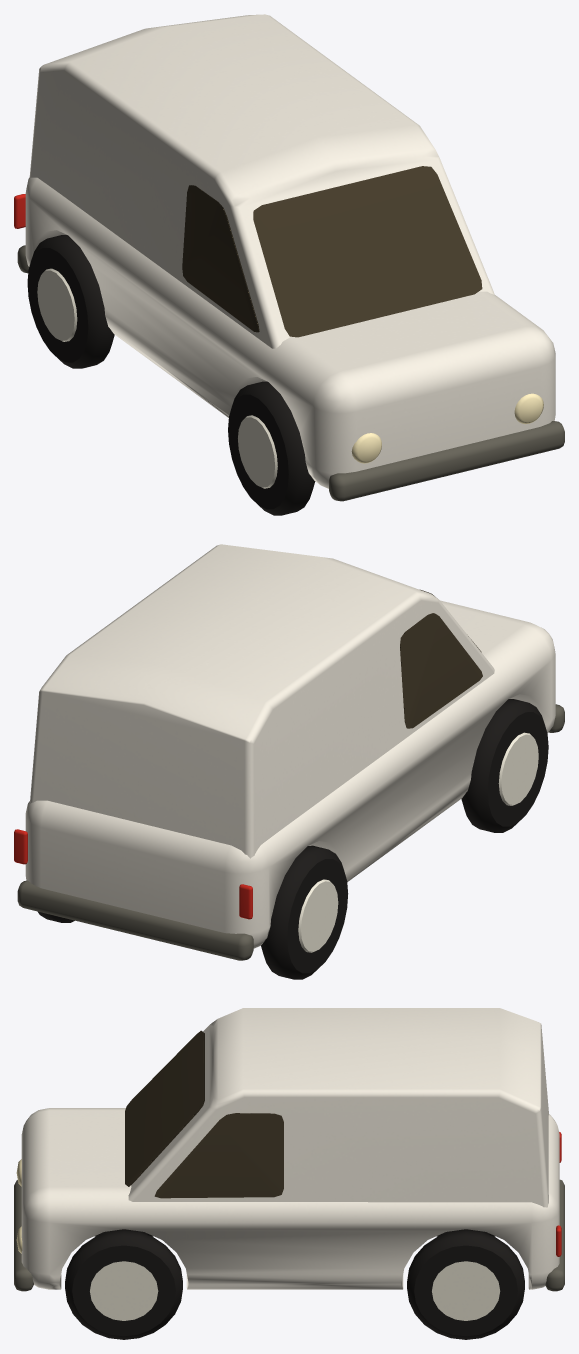
Rendered from car-van.fbx.
3 views of the same model, one above another, from view 1: azimuth 30°, elevation 25°; view 2: azimuth 150°, elevation 25°; view 3: azimuth 270°, elevation 25° (orthographic). The views are drawn at different scales.
Visible parts, largest first — view 1: car-van; view 2: car-van; view 3: car-van.
Part boxes in pixels (left/top/right/bottom): car-van: left=14, top=14, right=564, bottom=515; car-van: left=14, top=544, right=564, bottom=979; car-van: left=14, top=1008, right=564, bottom=1339.
Size of the model in its own units: 750 by 800 by 1600.
1 material, 1 textured.
